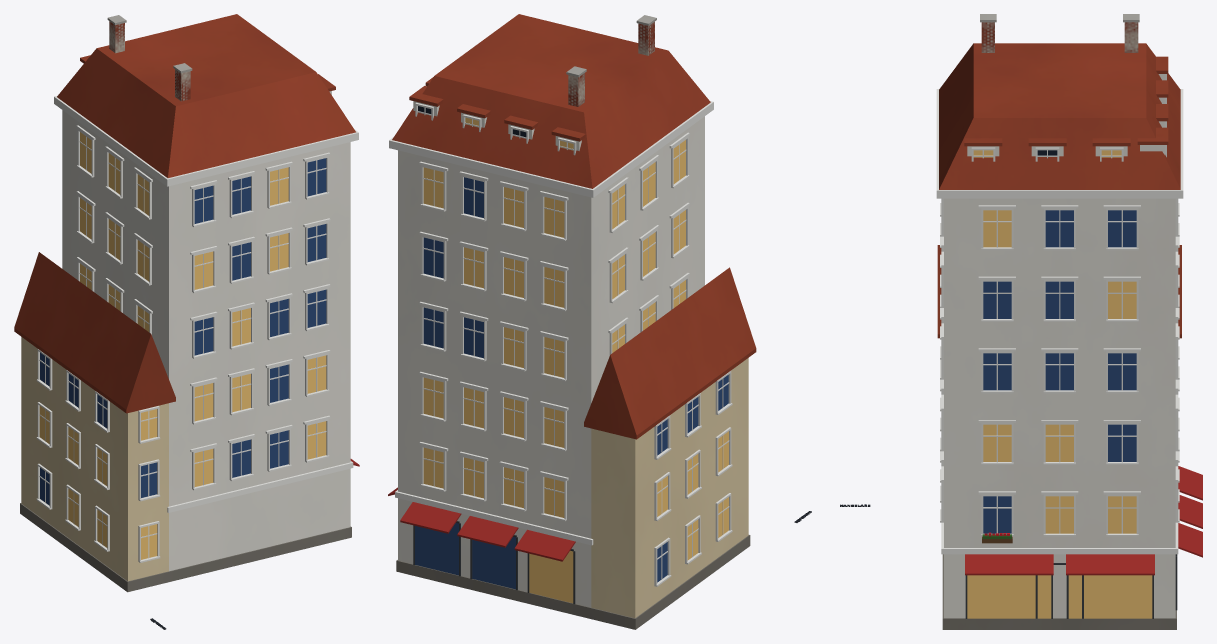
Rendered from dum_10_obchody_vez.glb.
3 renders of one model, left to right at view 1: azimuth 30°, elevation 25°; view 2: azimuth 150°, elevation 25°; view 3: azimuth 270°, elevation 25°, orthographic. The views are drawn at different scales.
Visible parts, largest first — view 1: dum, noc; view 2: dum, noc; view 3: dum, noc.
Boxes of the visible parts, box(x1,y1,x2,y2) form: dum: box(14, 14, 359, 629); noc: box(39, 132, 326, 559); dum: box(388, 14, 811, 629); noc: box(423, 117, 728, 603); dum: box(840, 14, 1202, 629); noc: box(967, 150, 1152, 618).
Bounding box in the file's own units: 12.89 × 23.86 × 14.67.
Materials: 1 (1 with a texture image).
